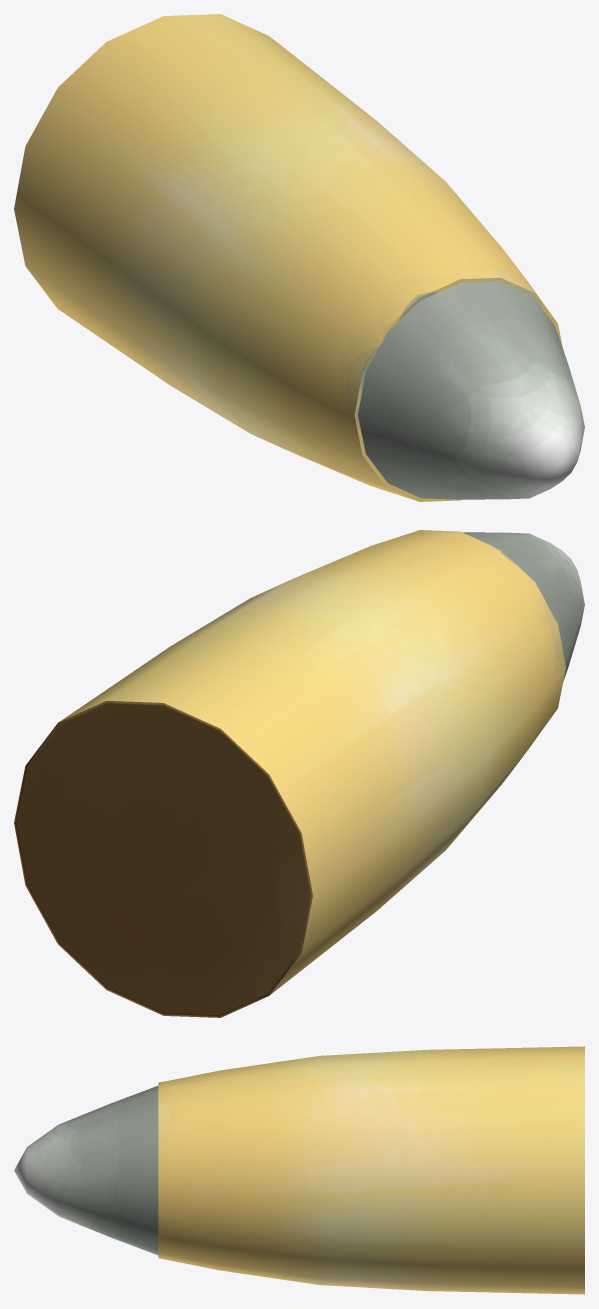
The model's file is bullet.fbx.
3 renders of one model, top to bottom at view 1: azimuth 30°, elevation 25°; view 2: azimuth 150°, elevation 25°; view 3: azimuth 270°, elevation 25°, orthographic. The views are drawn at different scales.
Parts seen in each view (by area): view 1: pSphere1; view 2: pSphere1; view 3: pSphere1.
Boxes of the visible parts, <box> form: pSphere1: <box>14,14,584,501</box>; pSphere1: <box>14,530,584,1017</box>; pSphere1: <box>14,1046,584,1294</box>.
Size of the model in its own units: 2.07 by 2.07 by 4.75.
